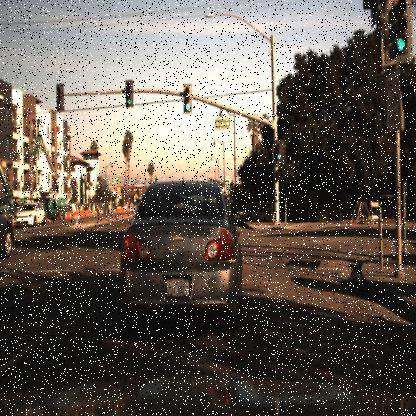car: (116, 173, 246, 331), (0, 198, 22, 277), (16, 200, 46, 227)
trafficLight: (178, 76, 192, 116), (120, 72, 132, 108), (49, 78, 61, 112)
trafficLight-Green: (380, 0, 414, 68), (274, 130, 290, 170)
